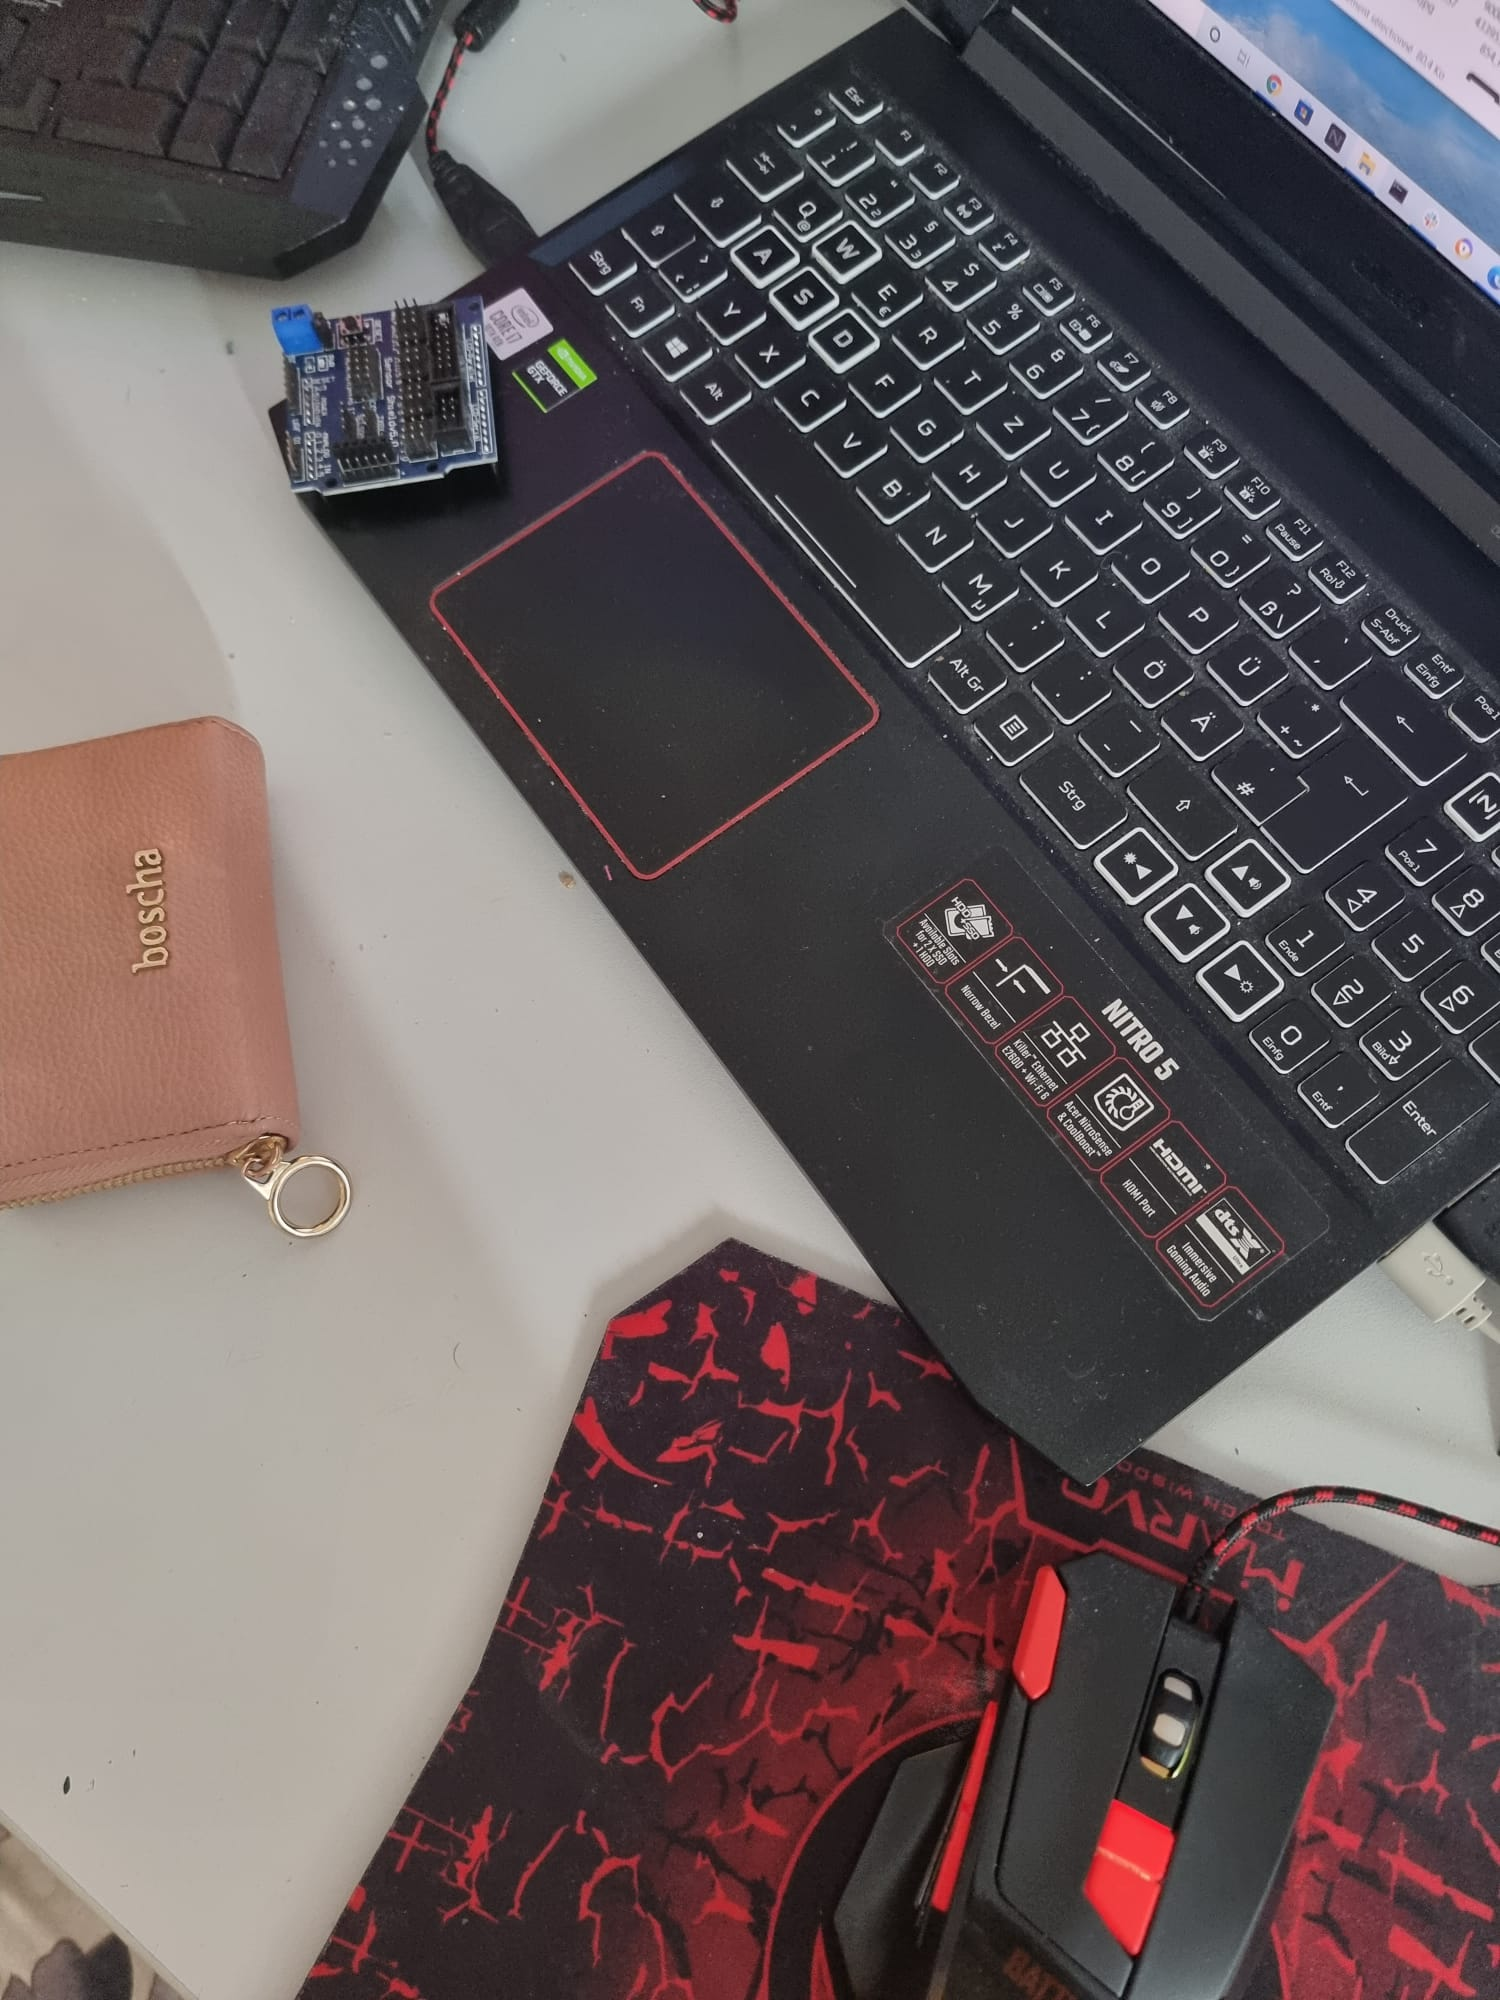5V EXPANSION: (266, 294, 501, 513)
